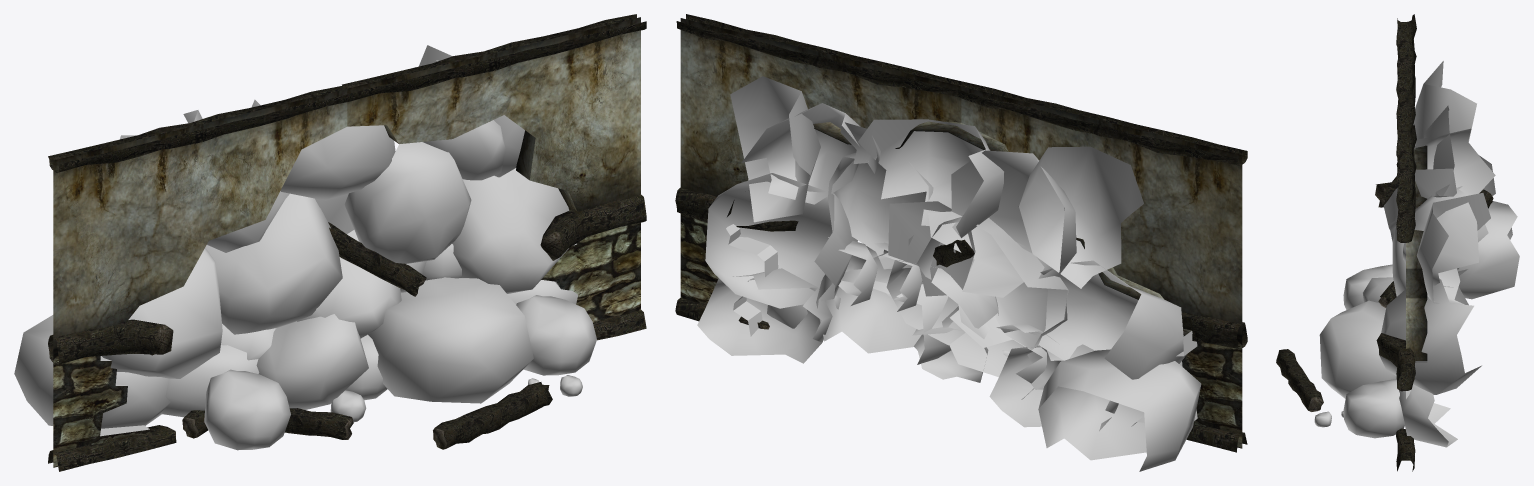
File: default_broken_4x8m.dae
3 views of the same model, side by side, from view 1: azimuth 30°, elevation 25°; view 2: azimuth 150°, elevation 25°; view 3: azimuth 270°, elevation 25° (orthographic). The views are drawn at different scales.
Parts seen in each view (by area): view 1: polySurface172, polySurface5, polySurface143; view 2: polySurface172, polySurface5, polySurface143; view 3: polySurface172, polySurface143, polySurface5.
Part boxes in pixels (bbox=[...]): polySurface172: bbox=[14, 45, 596, 450]; polySurface5: bbox=[53, 17, 640, 467]; polySurface143: bbox=[48, 14, 646, 471]; polySurface172: bbox=[697, 76, 1201, 471]; polySurface5: bbox=[680, 18, 1242, 448]; polySurface143: bbox=[675, 14, 1247, 452]; polySurface172: bbox=[1314, 61, 1519, 447]; polySurface143: bbox=[1276, 14, 1493, 471]; polySurface5: bbox=[1406, 145, 1427, 360].
Size of the model in its own units: 8 by 4.02 by 3.73.
